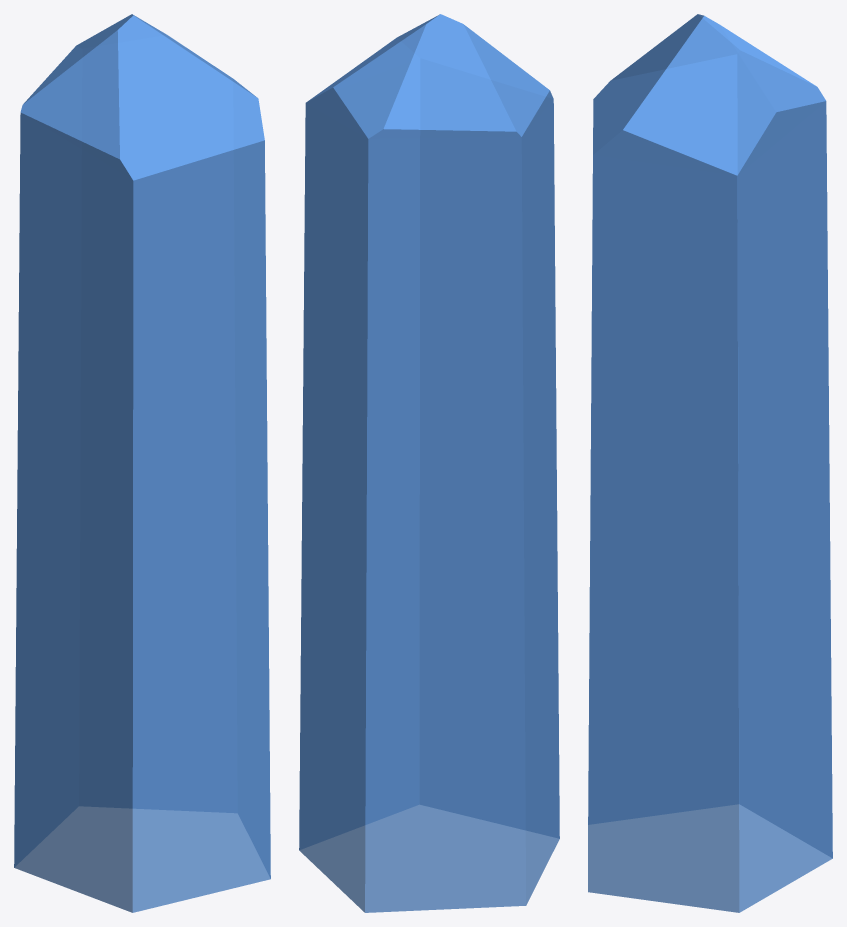
The model's file is Crystal_s_01.fbx.
3 renders of one model, left to right at view 1: azimuth 30°, elevation 25°; view 2: azimuth 150°, elevation 25°; view 3: azimuth 270°, elevation 25°, orthographic.
Visible parts, largest first — view 1: Crystal_s_01; view 2: Crystal_s_01; view 3: Crystal_s_01.
Boxes of the visible parts, x1,y1,x2,y2 form: Crystal_s_01: [14, 14, 270, 912]; Crystal_s_01: [299, 14, 559, 912]; Crystal_s_01: [588, 14, 832, 912].
Bounding box in the file's own units: 27.52 × 98.85 × 26.17.
